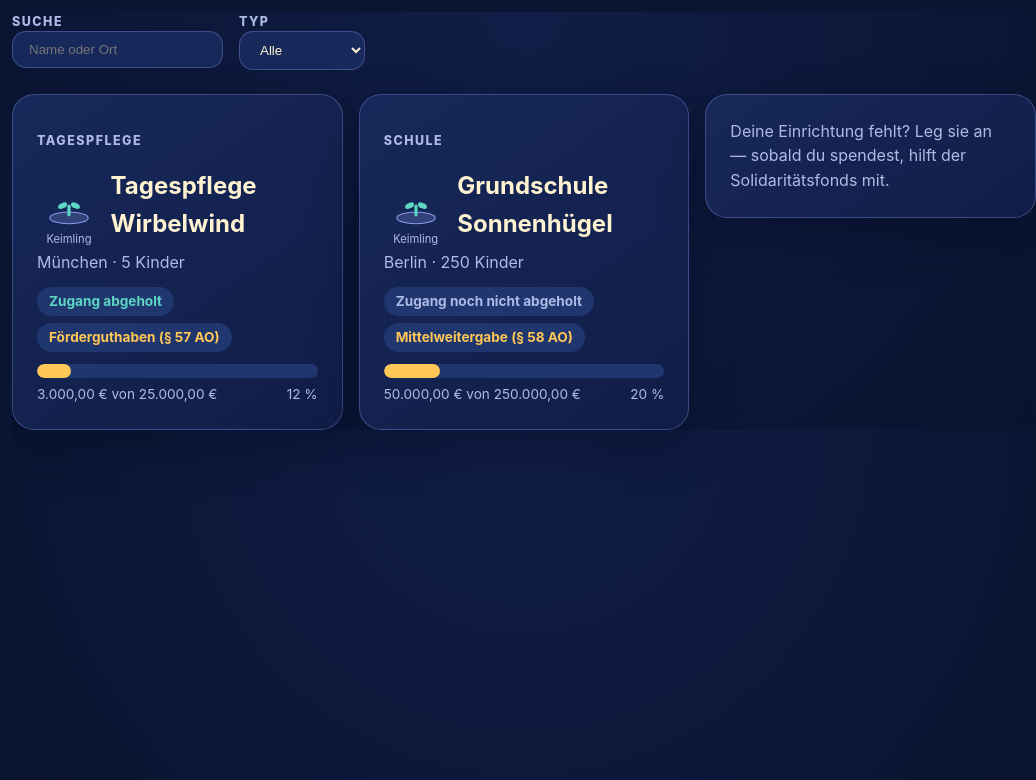
Scenario: EinrichtungenFilter › filtert nach Typ
This screenshot has width=1036, height=780.
Select "Schule" in the dropdown labelled "Typ" at (302, 50), box x1=239 y1=31 x2=365 y2=70
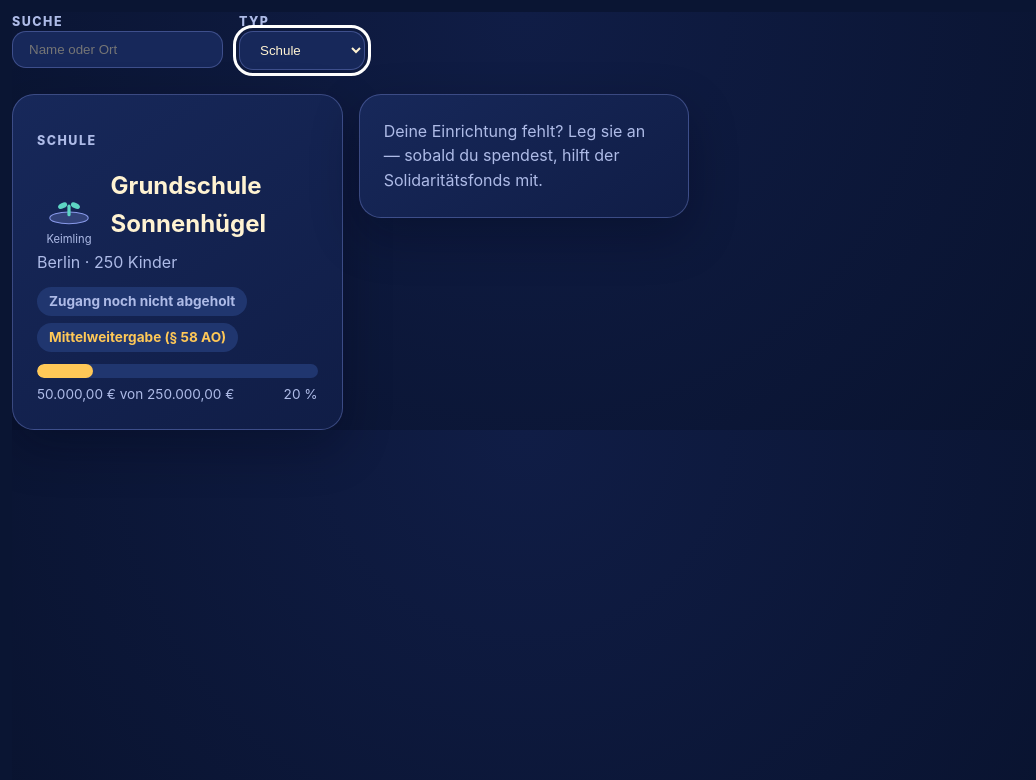
Expected: the heading "Grundschule Sonnenhügel" is shown, x1=111 y1=171 x2=266 y2=238
Now the link "Tagespflege Wirbelwind" is gone
